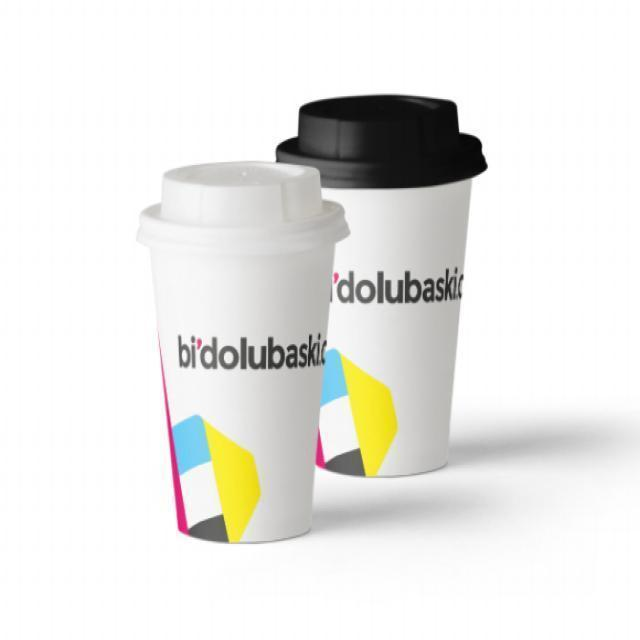trash: (142, 150, 340, 582)
